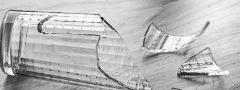glass: (0, 9, 230, 90)
